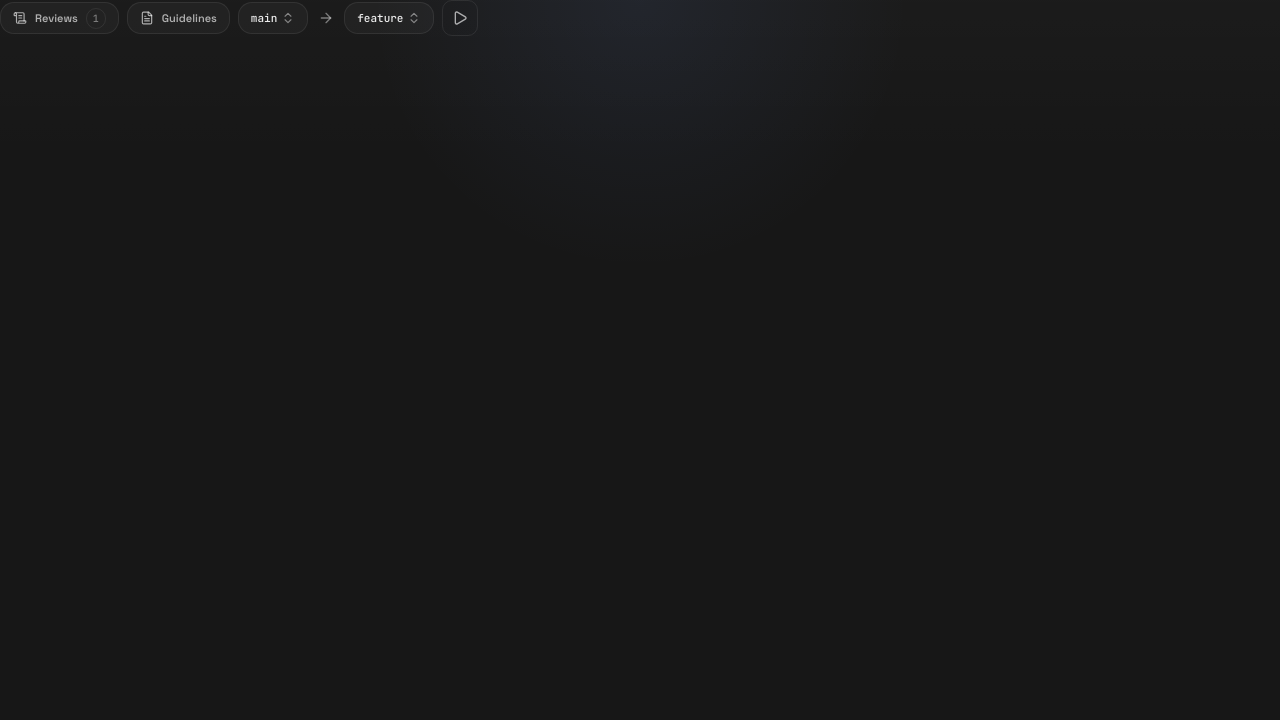
Test: ReviewTitleBarTrailing › shows return to latest inside the overlay when viewing history
This screenshot has width=1280, height=720.
What coordinates should you click on to do the following:
click the button "Reviews 1"
I would click on:
 (59, 18)
Its box is [0,2,119,34].
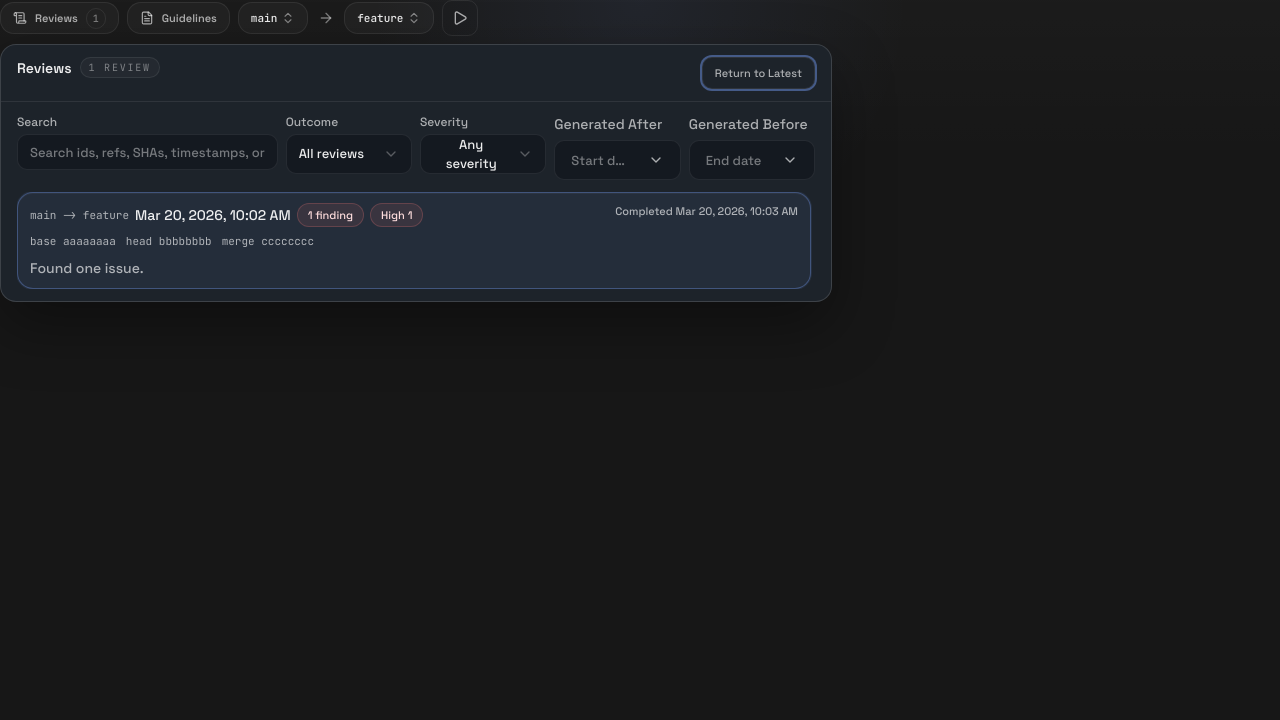
Now the button "Return to Latest" is shown, box [702,57,815,89]
